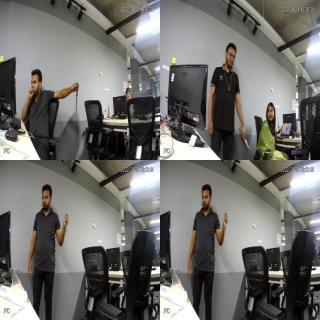knife: (241, 135, 251, 151), (74, 90, 80, 112), (63, 217, 69, 235), (223, 218, 227, 232)
